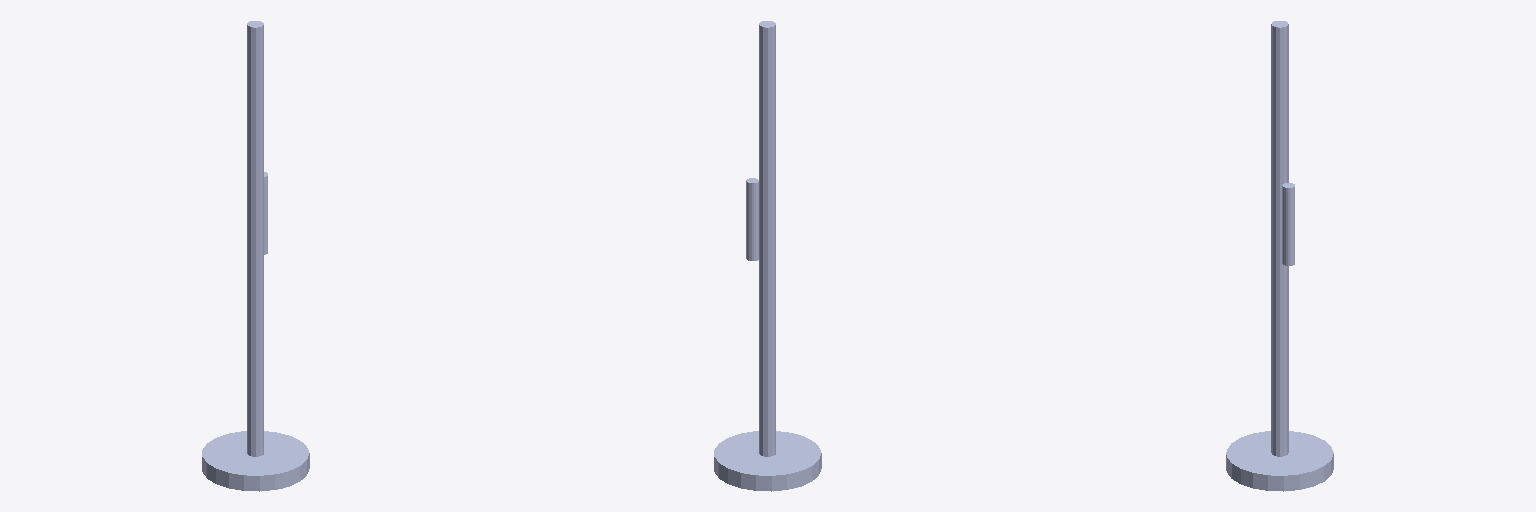
robot.urdf — pole-pinger.SLDPRT:
<robot
  name="pole-pinger.SLDPRT">
  <link
    name="pole-pinger.SLDPRT">
    <inertial>
      <origin
        xyz="0.46114 -0.93656 0.17676"
        rpy="0 0 0" />
      <mass
        value="9.4074" />
      <inertia
        ixx="1.15936884713012"
        ixy="0.000212009082549123"
        ixz="0.00402192283520853"
        iyy="1.15951535199421"
        iyz="-0.00286558981704308"
        izz="0.0426545299368875" />
    </inertial>
    <visual>
      <origin
        xyz="0 0 0"
        rpy="1.5707963267949 0 0" />
      <geometry>
        <mesh
          filename="package://pole-pinger.SLDPRT/meshes/pole-pinger.SLDPRT.STL" />
      </geometry>
      <material
        name="">
        <color
          rgba="0.79216 0.81961 0.93333 1" />
      </material>
    </visual>
    <collision>
      <origin
        xyz="0 0 0"
        rpy="1.5707963267949 0 0" />
      <geometry>
        <mesh
          filename="package://pole-pinger.SLDPRT/meshes/pole-pinger.SLDPRT.STL" />
      </geometry>
    </collision>
  </link>
  <gazebo reference="pole-pinger.SLDPRT">
    <material>Gazebo/Yellow</material>
    </gazebo>
</robot>

--- Facts derived from the render (not from the file) ---
The picture shows the robot from 3 angles, left to right: view 1: azimuth 30°, elevation 25°; view 2: azimuth 150°, elevation 25°; view 3: azimuth 270°, elevation 25°; orthographic projection.
Robot: pole-pinger.SLDPRT — 1 links, 0 joints (none); root link pole-pinger.SLDPRT; default pose: all joints at 0.
Visible links, largest first — view 1: pole-pinger.SLDPRT; view 2: pole-pinger.SLDPRT; view 3: pole-pinger.SLDPRT.
Boxes of the visible links, x1,y1,x2,y2 form: pole-pinger.SLDPRT: (202,21,309,491); pole-pinger.SLDPRT: (714,21,821,491); pole-pinger.SLDPRT: (1226,21,1333,491).
Size in the robot's own frame: 0.2493 by 0.25 by 1.14 metres.
1 mesh visuals loaded from 1 distinct referenced files (1 binary STL).